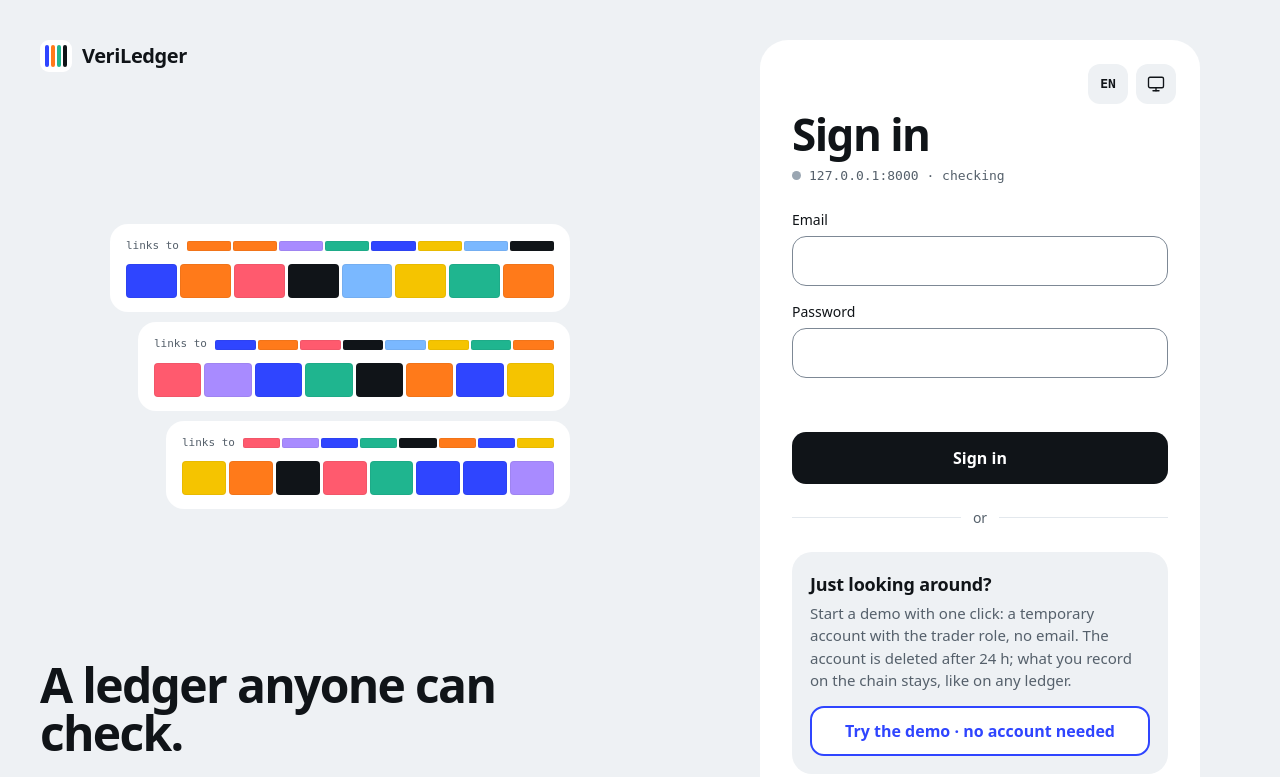
Login › shows the API's words when it refuses a demo, and shakes them
Click the button "Try the demo · no account needed" at (980, 730), box [810,706,1150,756]
(page scrolled)
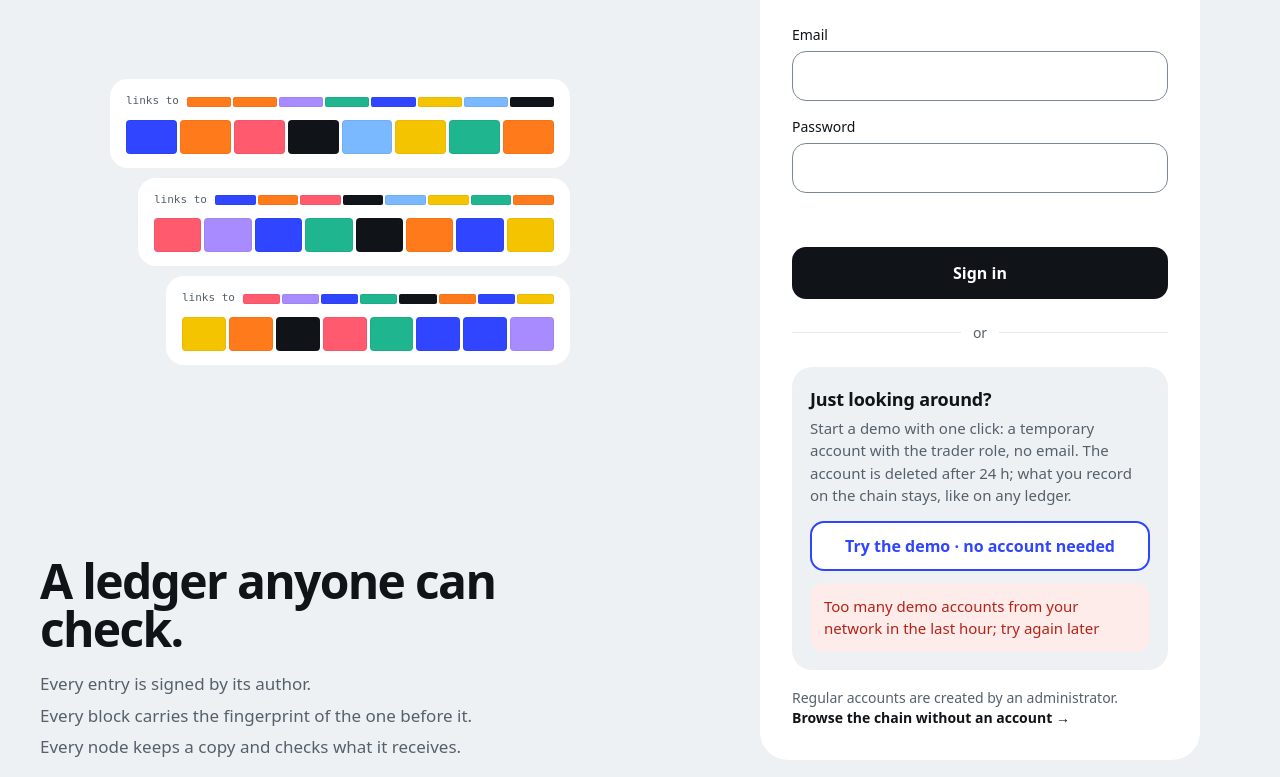
expect the message reads "Too many demo accounts from your network in the last hour; try again later": met, box [824,596,1099,638]
